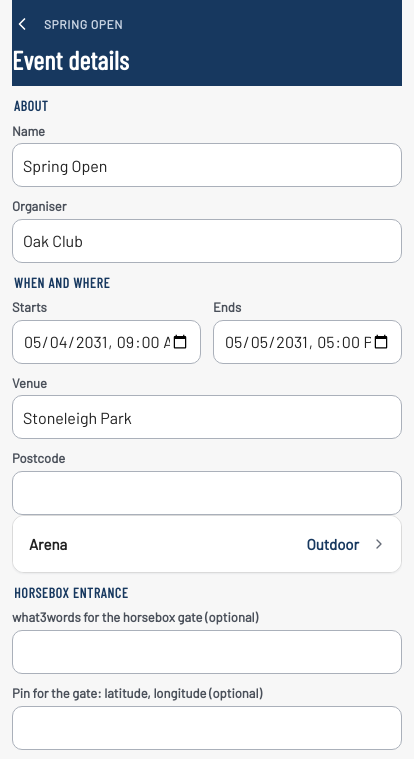
it: EventDetailsPage › shows why a save failed
In the field labelled "Venue": (207, 418) [12, 396, 402, 440], type " North"
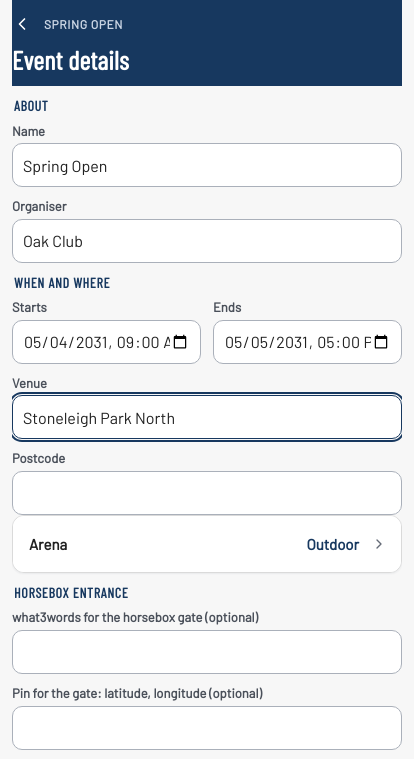
Press Tab
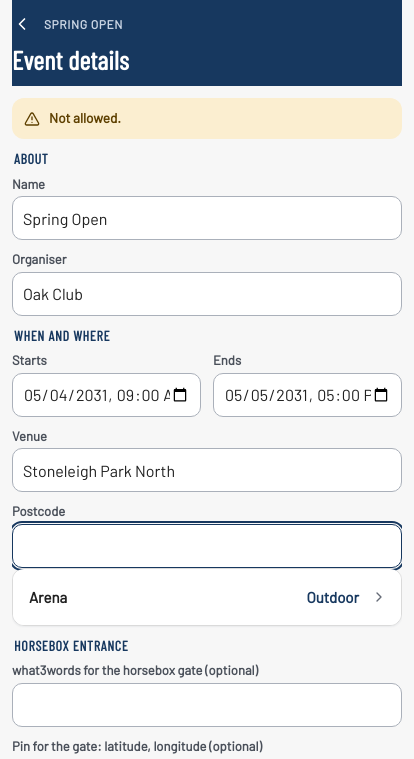
Expected: the message reads "Not allowed.", [49, 109, 121, 126]
